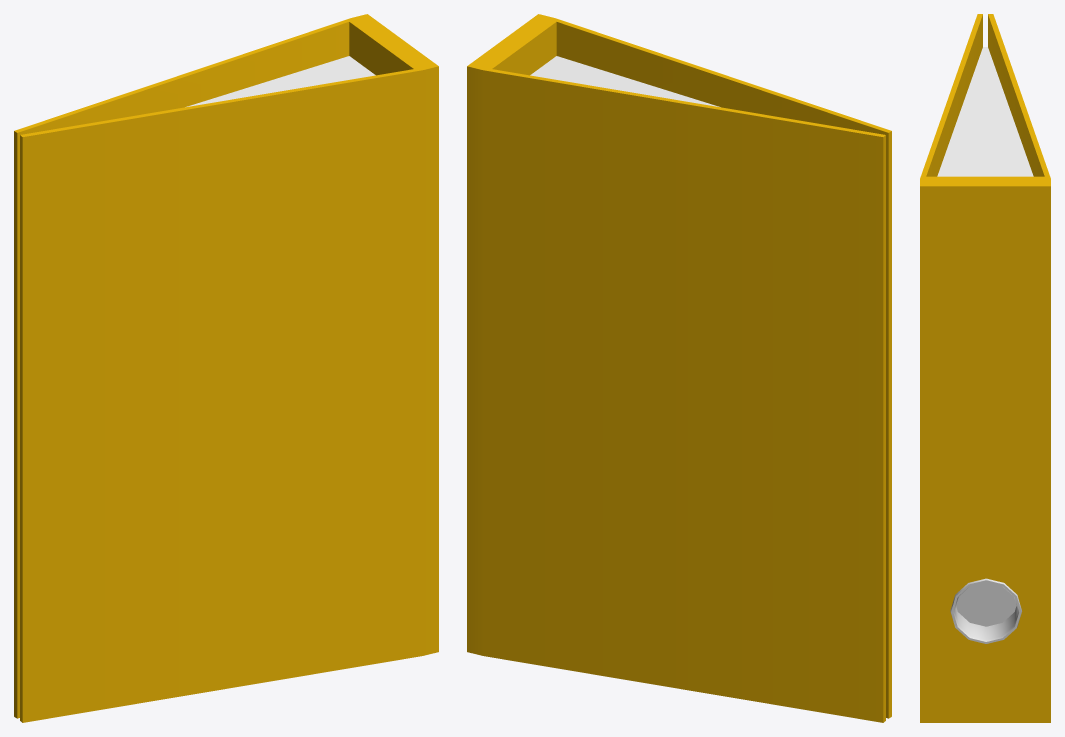
File: Carpeta04.fbx
The picture shows the model from 3 angles, left to right: view 1: azimuth 30°, elevation 25°; view 2: azimuth 150°, elevation 25°; view 3: azimuth 270°, elevation 25°; orthographic projection. The views are drawn at different scales.
Parts seen in each view (by area): view 1: Carpeta04; view 2: Carpeta04; view 3: Carpeta04.
Part boxes in pixels (<box>): Carpeta04: <box>14,14,438,722</box>; Carpeta04: <box>467,14,891,722</box>; Carpeta04: <box>920,14,1050,722</box>.
Bounding box in the file's own units: 34.66 × 50.08 × 11.07.
